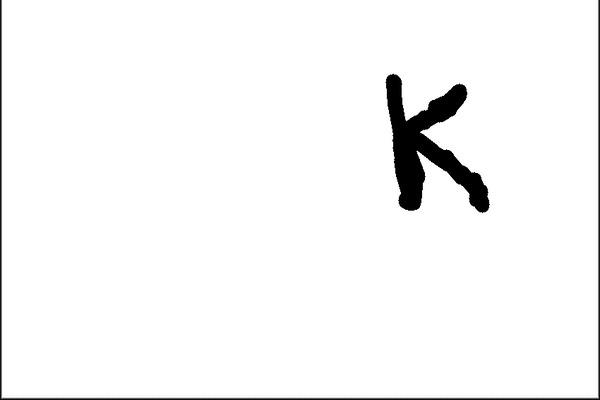K: (376, 61, 497, 225)
